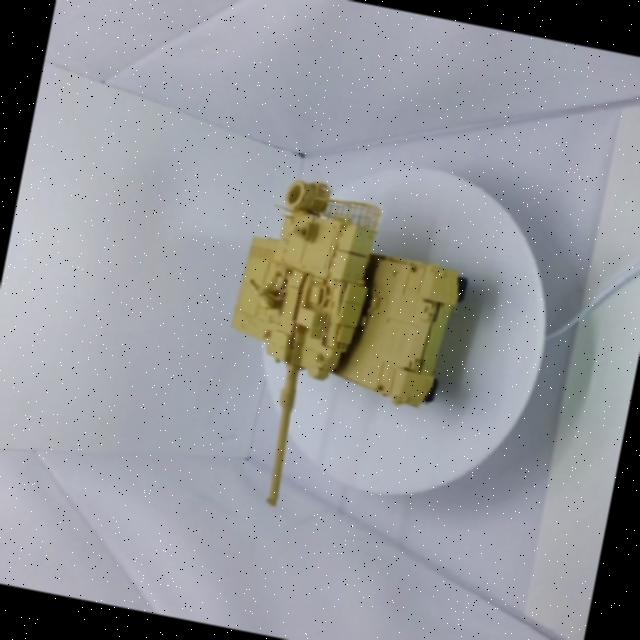korea tank: (155, 130, 518, 558)
